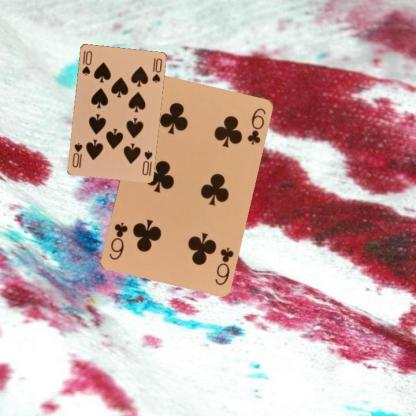10s: (139, 148, 154, 176), (79, 48, 93, 76)
6c: (212, 244, 235, 286)
